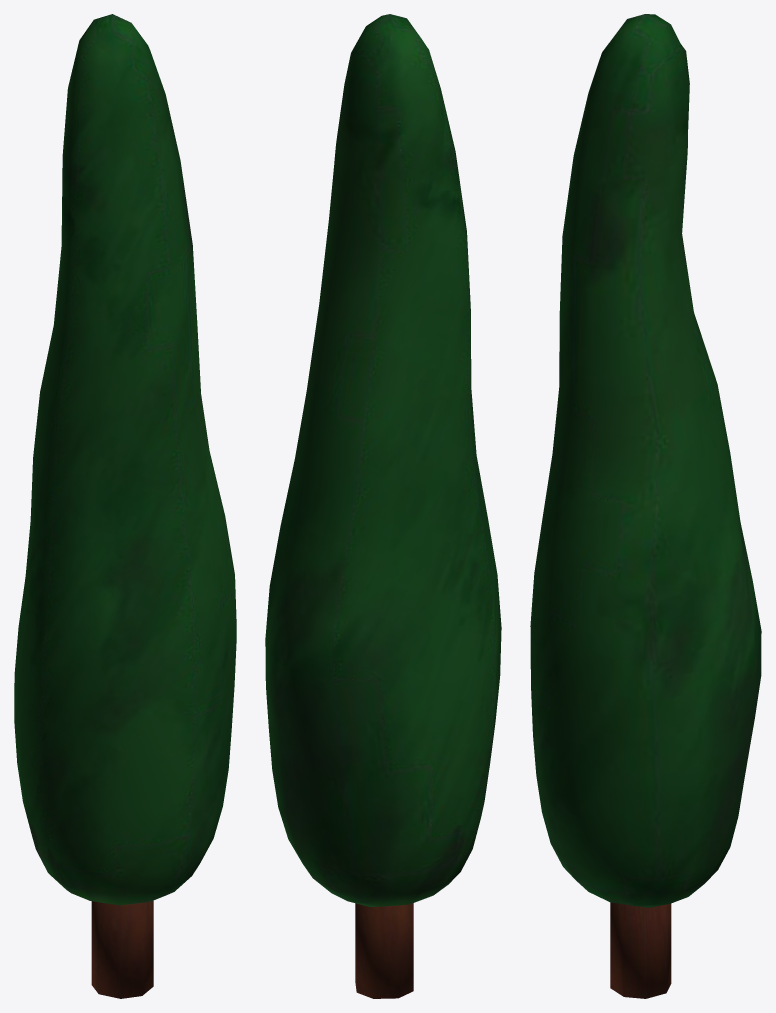
The model's file is thuja.glb.
3 views of the same model, side by side, from view 1: azimuth 30°, elevation 25°; view 2: azimuth 150°, elevation 25°; view 3: azimuth 270°, elevation 25° (orthographic).
Parts seen in each view (by area): view 1: Cube.005; view 2: Cube.005; view 3: Cube.005.
Boxes of the visible parts, x1,y1,x2,y2 form: Cube.005: [14, 14, 236, 998]; Cube.005: [265, 14, 501, 998]; Cube.005: [530, 14, 761, 998].
Bounding box in the file's own units: 0.6168 × 2.85 × 0.617.
1 material, 1 textured.
